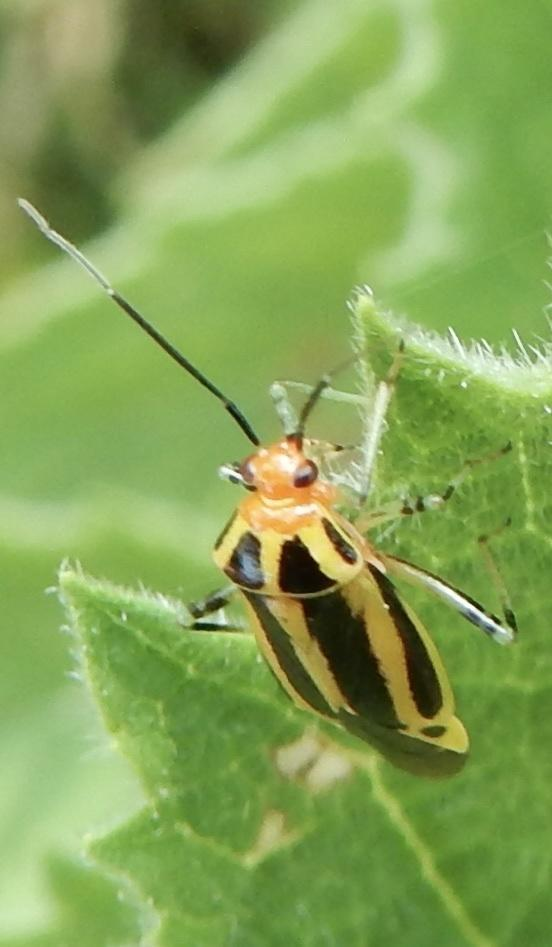plant_bugs: (0, 153, 552, 863)
